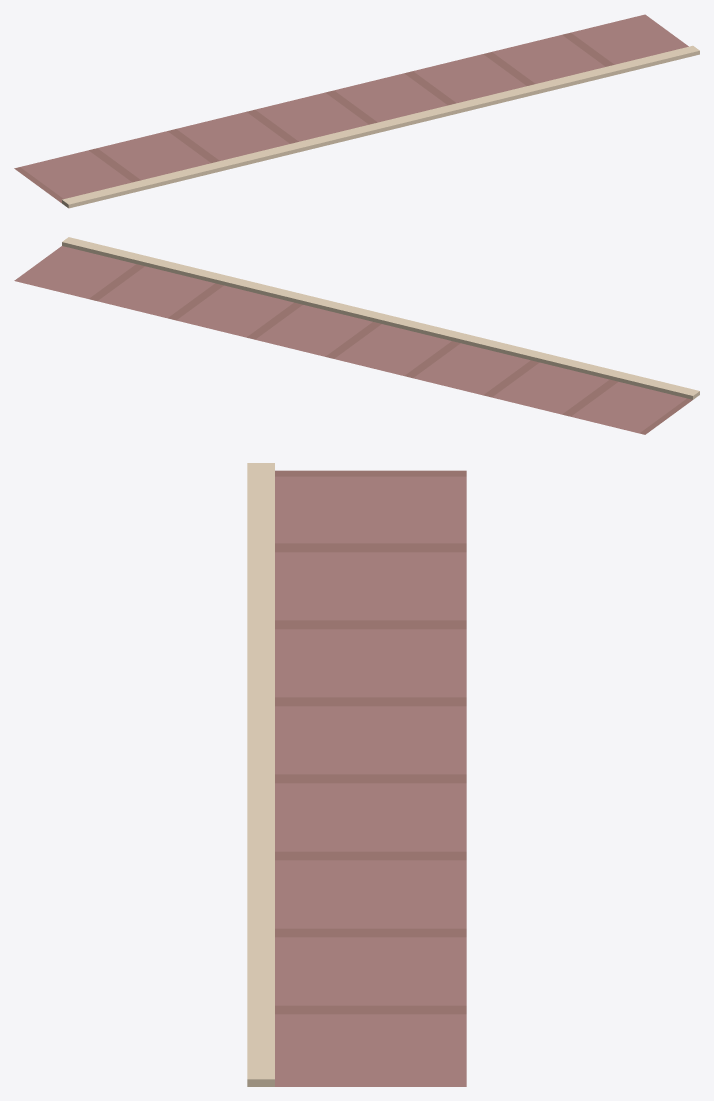
Rendered from Side_Way4.fbx.
3 renders of one model, top to bottom at view 1: azimuth 30°, elevation 25°; view 2: azimuth 150°, elevation 25°; view 3: azimuth 270°, elevation 25°, orthographic. The views are drawn at different scales.
Parts seen in each view (by area): view 1: Side_Way4; view 2: Side_Way4; view 3: Side_Way4.
Part boxes in pixels (<box>): Side_Way4: <box>14,14,699,208</box>; Side_Way4: <box>14,237,699,434</box>; Side_Way4: <box>247,463,466,1086</box>.
Bounding box in the file's own units: 1500 × 8.75 × 225.
